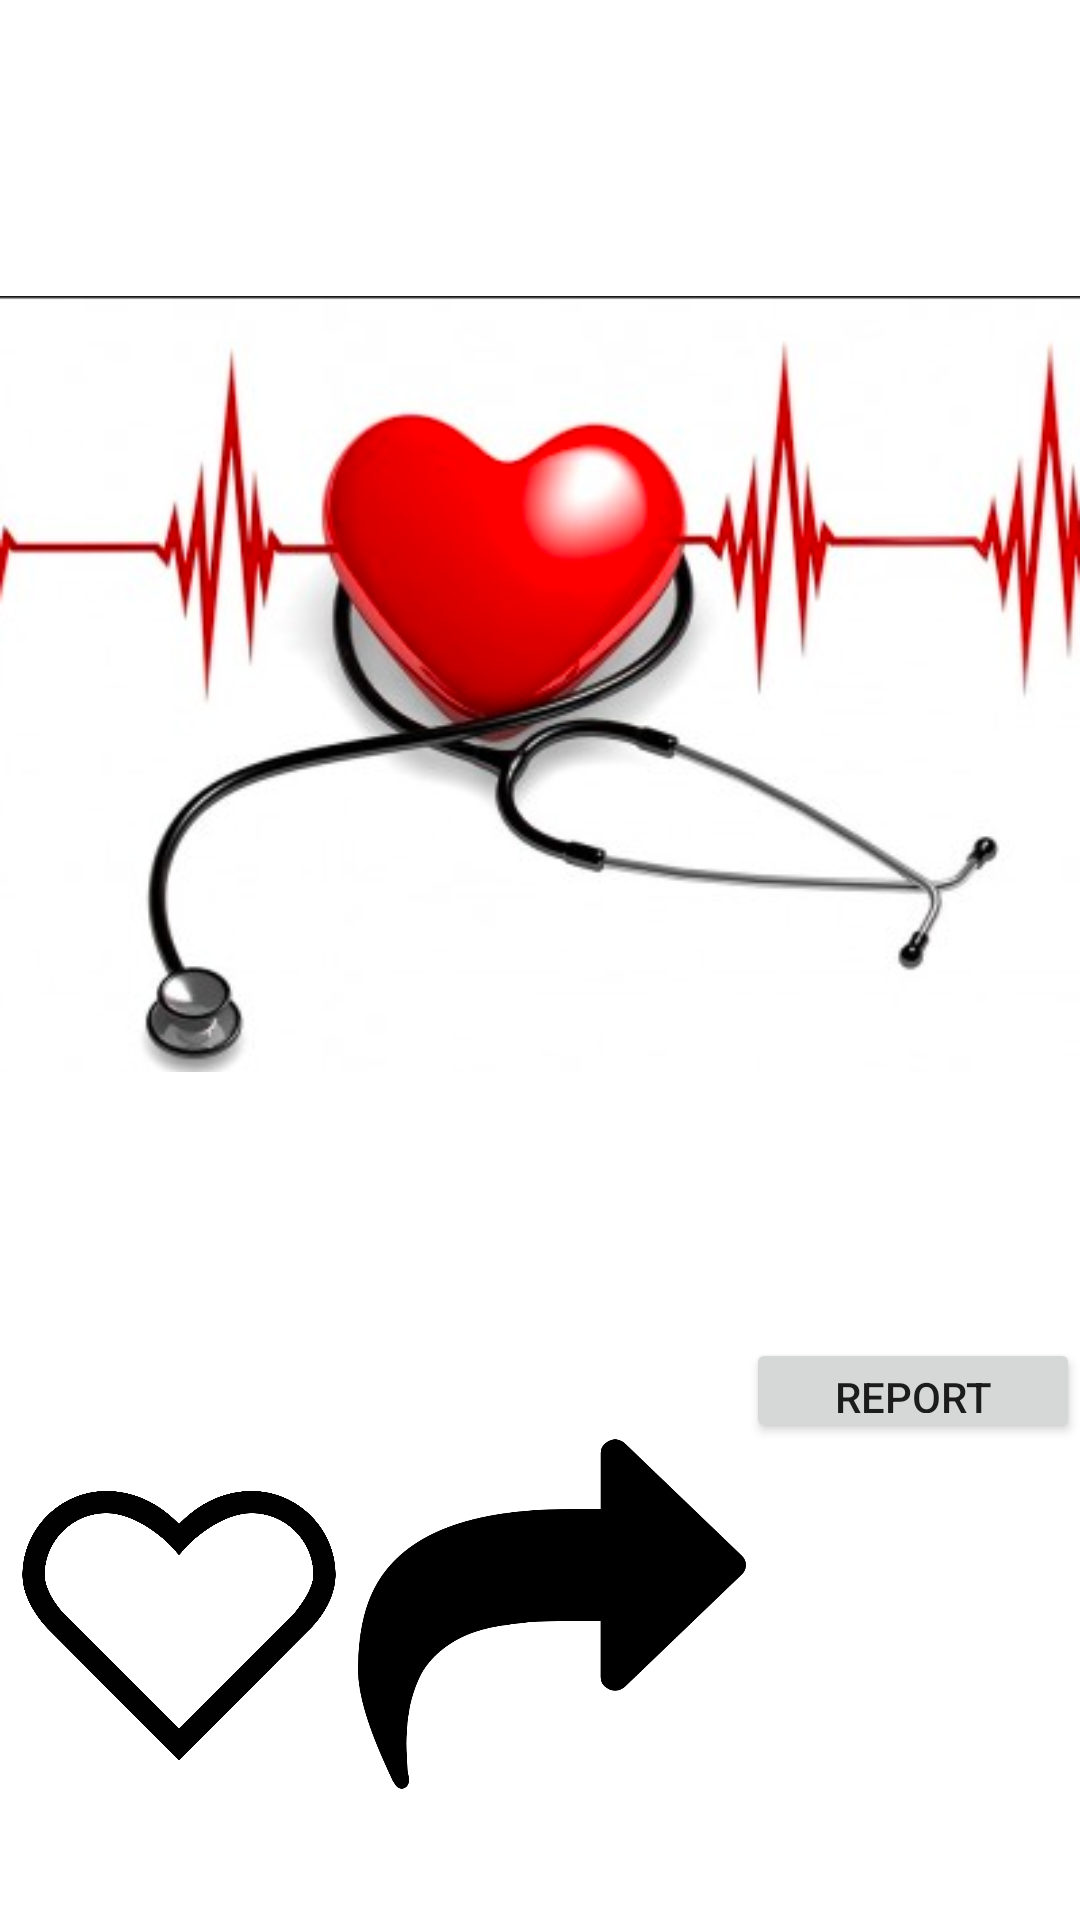

Icons on this 1080w x 1920h Android screen, each with the point to tap as (x,y):
blank heart like: (179,1625)
